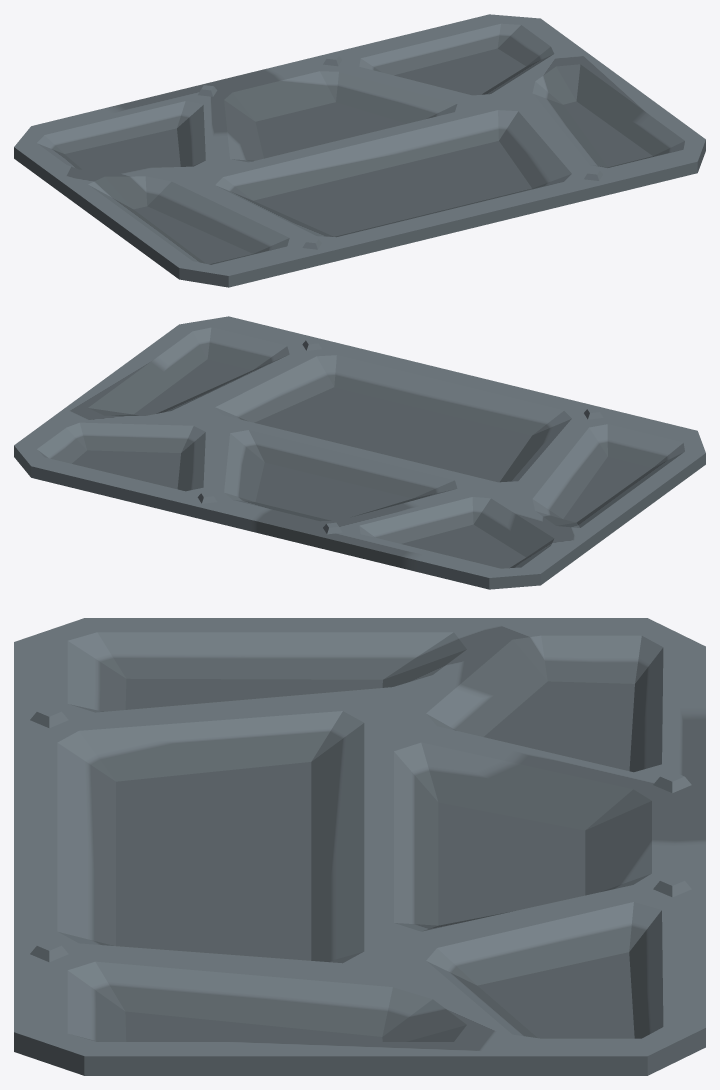
The model's file is SM_Prop_Tray_02.fbx.
3 views of the same model, one above another, from view 1: azimuth 30°, elevation 25°; view 2: azimuth 150°, elevation 25°; view 3: azimuth 270°, elevation 25° (orthographic). The views are drawn at different scales.
Parts seen in each view (by area): view 1: SM_Prop_Tray_02; view 2: SM_Prop_Tray_02; view 3: SM_Prop_Tray_02.
Part boxes in pixels (x1,y1,x2,y2): SM_Prop_Tray_02: (14, 14, 705, 287); SM_Prop_Tray_02: (14, 316, 705, 589); SM_Prop_Tray_02: (14, 618, 705, 1075).
Size of the model in its own units: 65.7 by 3.85 by 43.84.
Materials: 1 (1 with a texture image).
